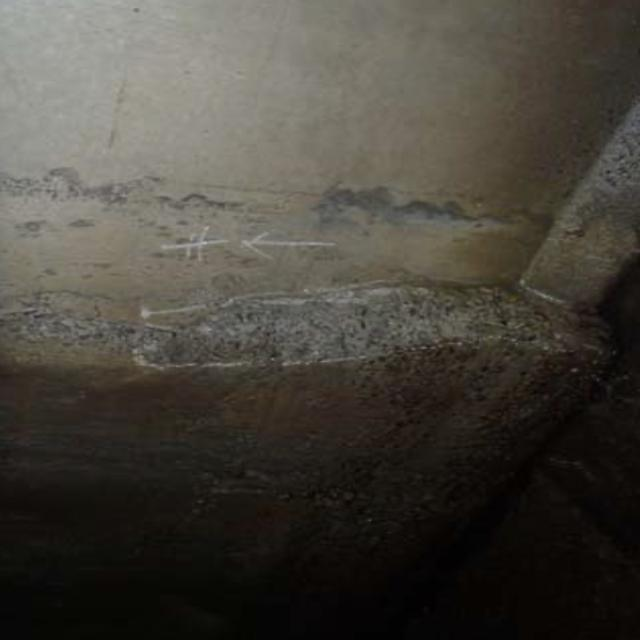spalling: (20, 290, 561, 371)
